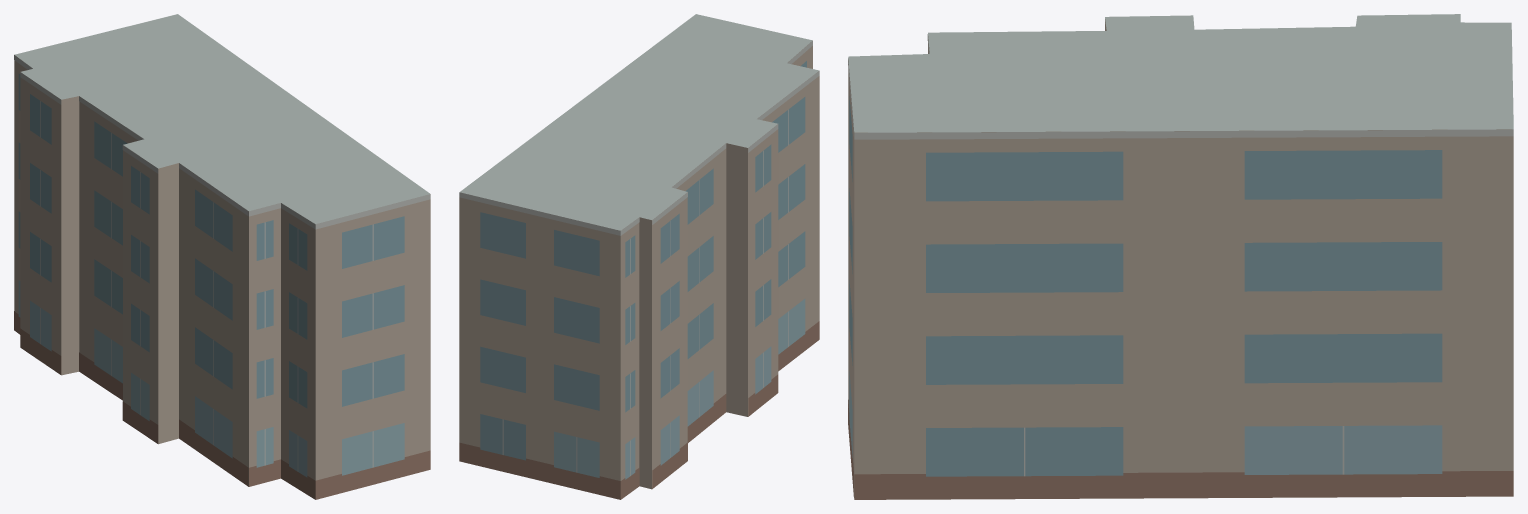
File: survey-upis-32731743.glb
The picture shows the model from 3 angles, left to right: view 1: azimuth 30°, elevation 25°; view 2: azimuth 150°, elevation 25°; view 3: azimuth 270°, elevation 25°; orthographic projection. The views are drawn at different scales.
Visible parts, largest first — view 1: survey-upis-32731743.tmp; view 2: survey-upis-32731743.tmp; view 3: survey-upis-32731743.tmp.
Part boxes in pixels (x1,y1,x2,y2): survey-upis-32731743.tmp: (14, 14, 430, 499); survey-upis-32731743.tmp: (459, 14, 819, 499); survey-upis-32731743.tmp: (848, 14, 1513, 499).
Bounding box in the file's own units: 8.89 × 12.8 × 21.05.
